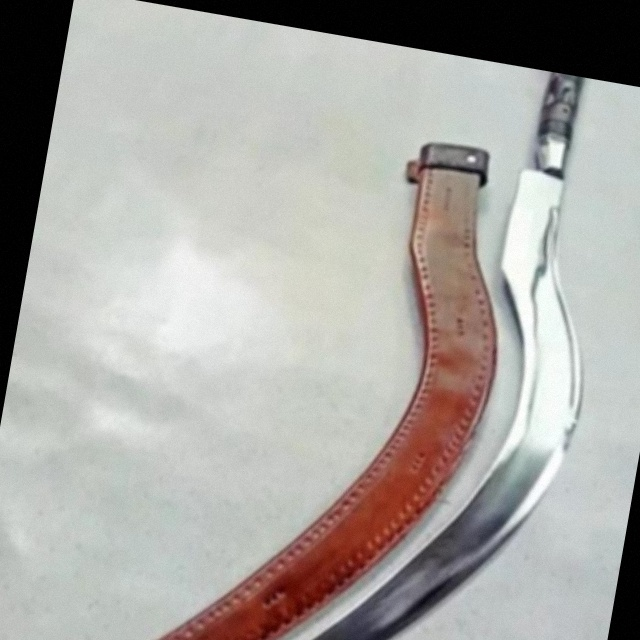Sharp-Object: (211, 33, 640, 640)
